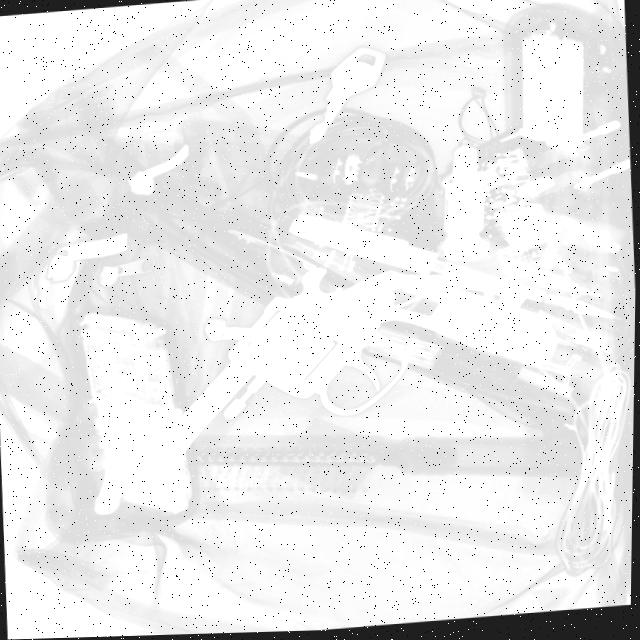knife: (278, 160, 638, 403)
pistol: (140, 264, 532, 467)
